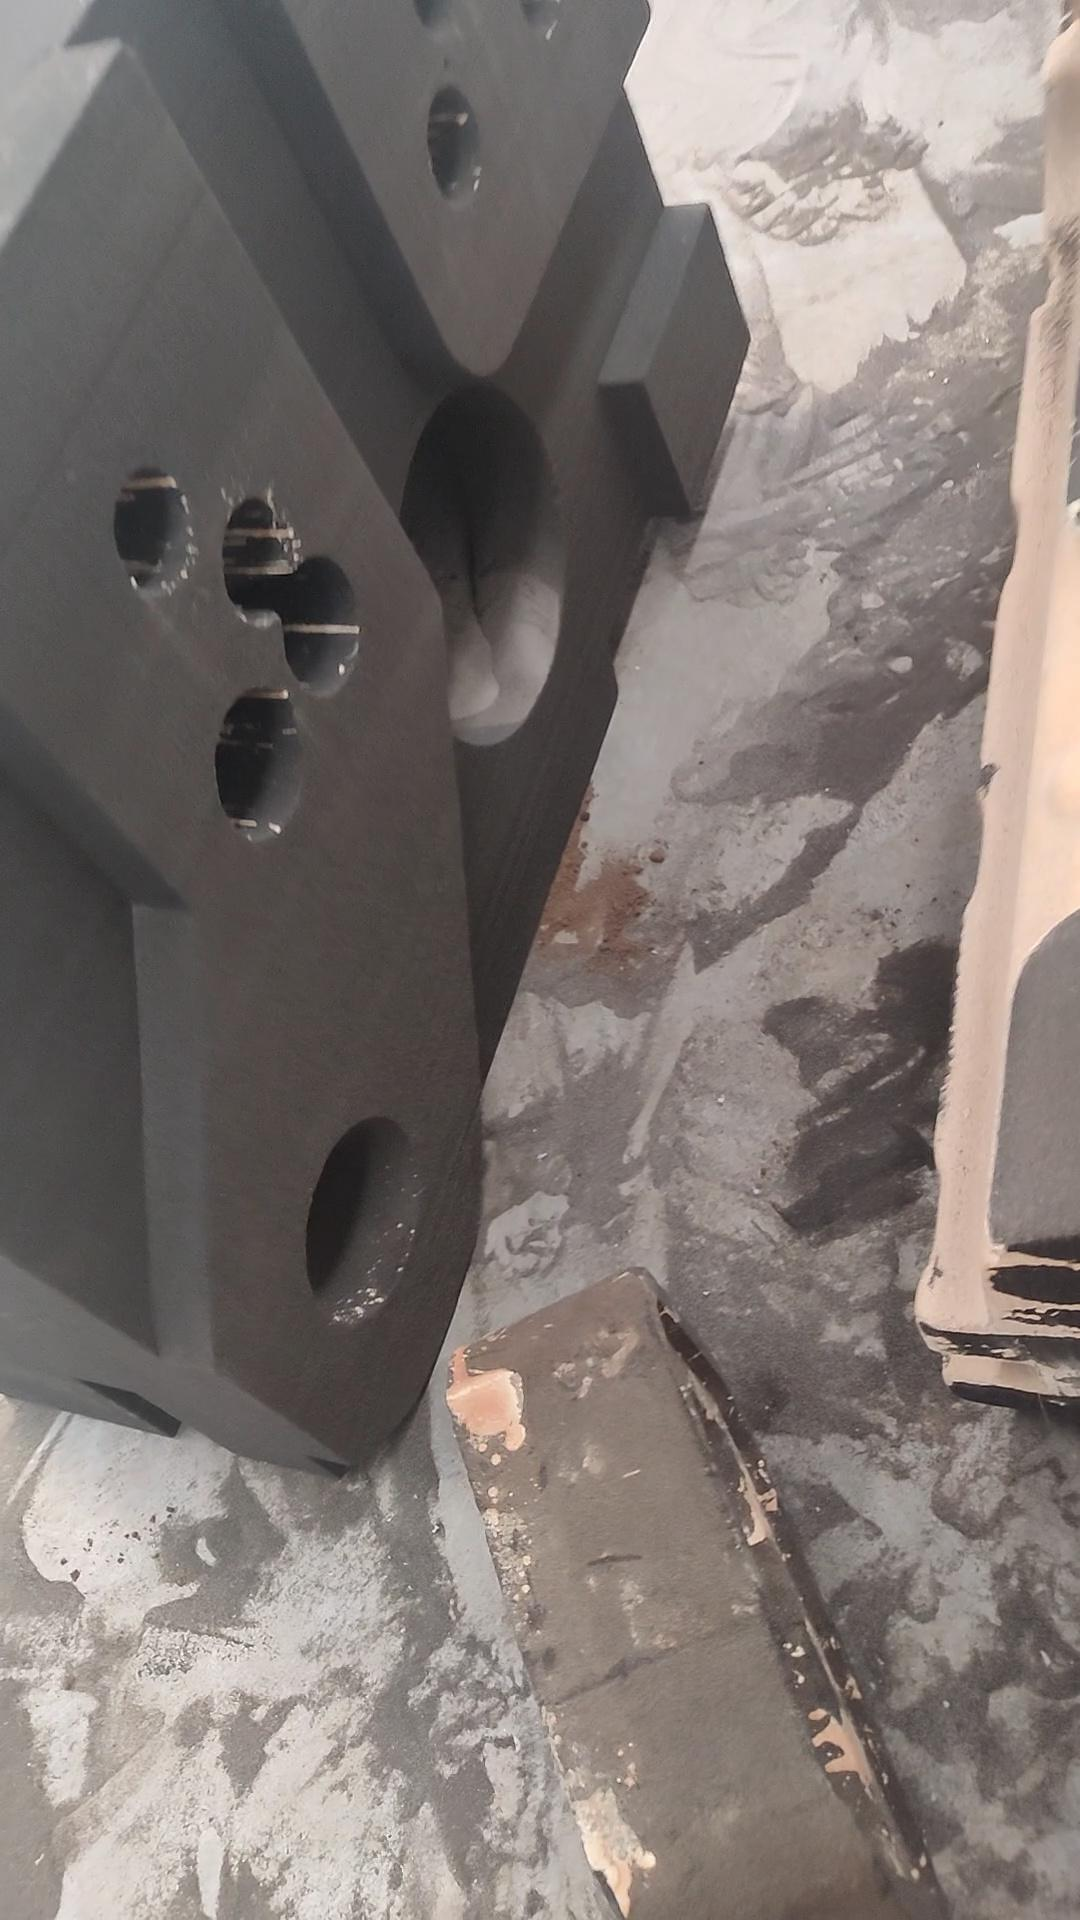pouring hole: (305, 1113, 425, 1325)
